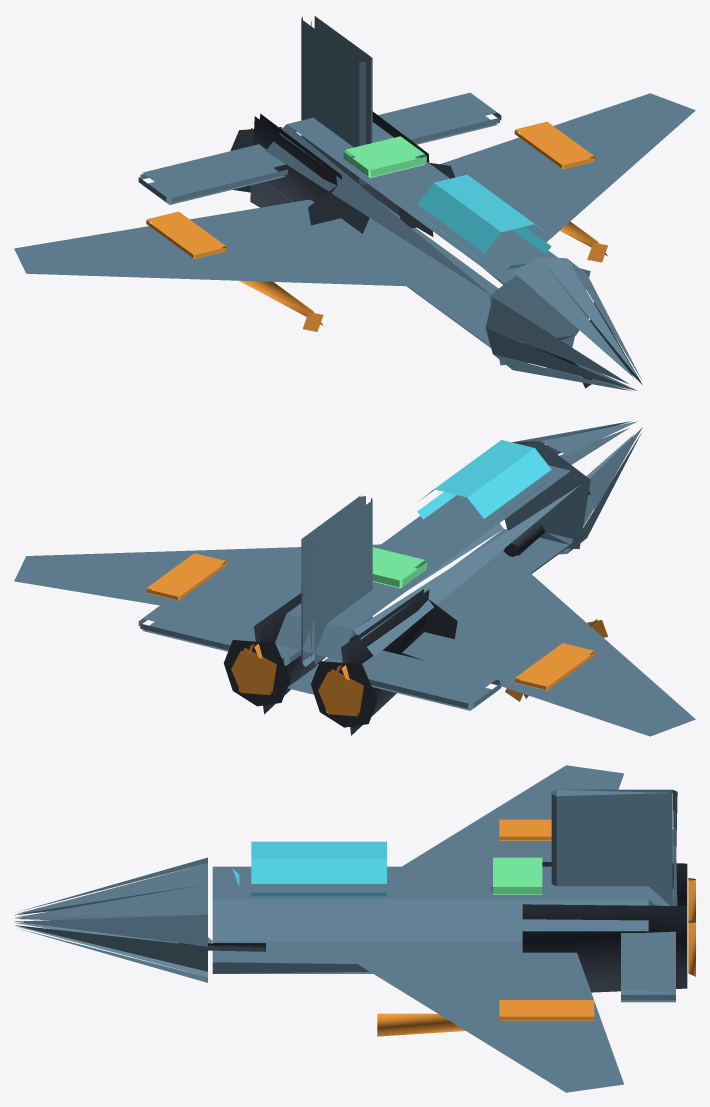
Rendered from boss-jet.glb.
The picture shows the model from 3 angles, top to bottom: view 1: azimuth 30°, elevation 25°; view 2: azimuth 150°, elevation 25°; view 3: azimuth 270°, elevation 25°; orthographic projection.
Visible parts, largest first — view 1: Swept wing, Fuselage, Swept wing.001, Tapered nose, Vertical tail, Engine, Canopy, Tailplane, Tailplane.001, Core, Wing marking.001, Wing marking (+3 smaller); view 2: Swept wing, Fuselage, Swept wing.001, Vertical tail, Tapered nose, Engine, Canopy, Tailplane, Tailplane.001, Engine.001, Wing marking, Wing marking.001 (+4 smaller); view 3: Fuselage, Swept wing.001, Tapered nose, Vertical tail, Engine.001, Swept wing, Canopy, Tailplane.001, Wing marking.001, Core, Underwing missile.001, Wing marking (+2 smaller).
Part boxes in pixels (box(x1,y1,x2,y2)): Swept wing: box(14, 199, 434, 287); Fuselage: box(266, 117, 588, 347); Swept wing.001: box(440, 93, 695, 242); Tapered nose: box(485, 257, 642, 390); Vertical tail: box(301, 16, 372, 185); Engine: box(230, 113, 369, 233); Canopy: box(417, 174, 551, 269); Tailplane: box(138, 144, 287, 204); Tailplane.001: box(378, 92, 501, 144); Core: box(343, 136, 426, 177); Wing marking.001: box(514, 121, 595, 168); Wing marking: box(146, 211, 226, 258); Swept wing: box(402, 563, 695, 736); Fuselage: box(275, 465, 588, 694); Swept wing.001: box(14, 544, 380, 620); Vertical tail: box(301, 496, 372, 666); Tapered nose: box(504, 420, 642, 554); Engine: box(311, 589, 457, 735); Canopy: box(417, 440, 551, 530); Tailplane: box(329, 650, 501, 710); Tailplane.001: box(138, 598, 301, 665); Engine.001: box(223, 593, 357, 714); Wing marking: box(514, 643, 595, 690); Wing marking.001: box(146, 553, 226, 600); Fuselage: box(196, 866, 669, 973); Swept wing.001: box(334, 949, 624, 1092); Tapered nose: box(14, 857, 207, 982); Vertical tail: box(551, 789, 677, 905); Engine.001: box(522, 904, 687, 992); Swept wing: box(402, 765, 624, 866); Canopy: box(232, 841, 386, 896); Tailplane.001: box(621, 931, 675, 1002); Wing marking.001: box(499, 1000, 594, 1020); Core: box(491, 857, 542, 894); Underwing missile.001: box(377, 1013, 465, 1036); Wing marking: box(499, 819, 551, 840).
Size of the model in its own units: 8 by 2.15 by 7.04.
